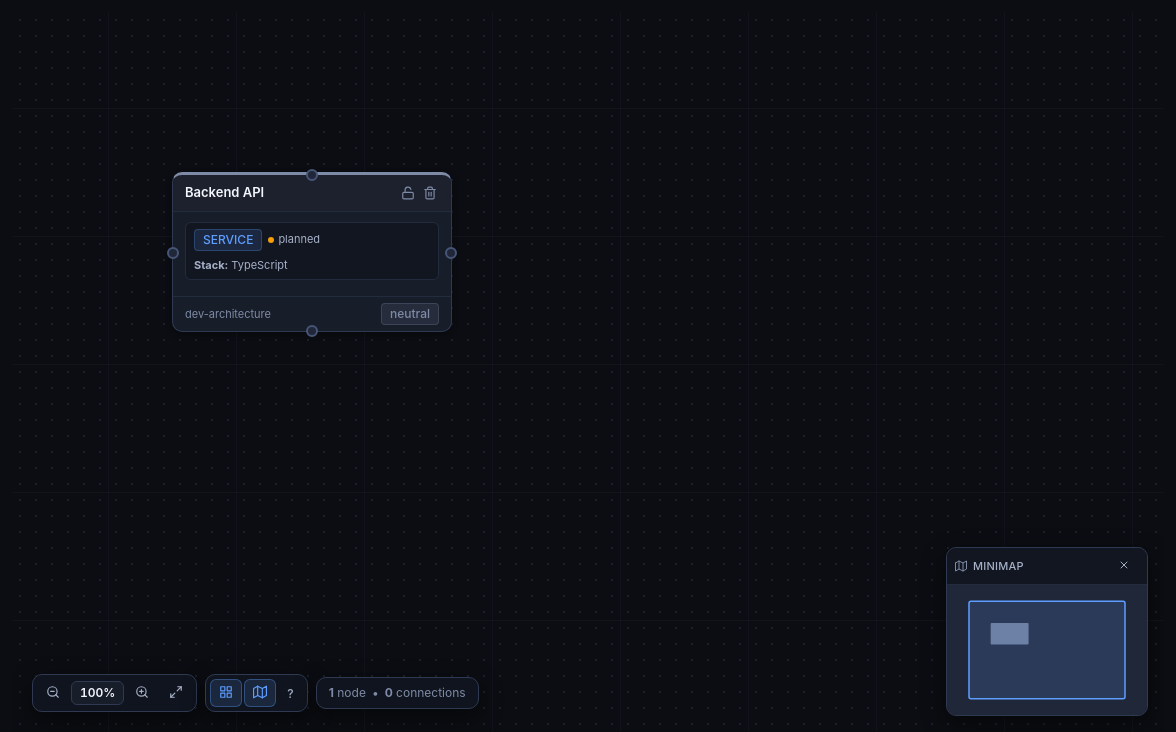
Scenario: Canvas Interaction Pipeline Integration Suite › Priority C: Right-Click Custom Context Menu › right-clicking a node selects it and opens custom context menu at pointer location
Right-click the button "Backend API".
right_click(312, 252)  # box x1=172 y1=172 x2=452 y2=332
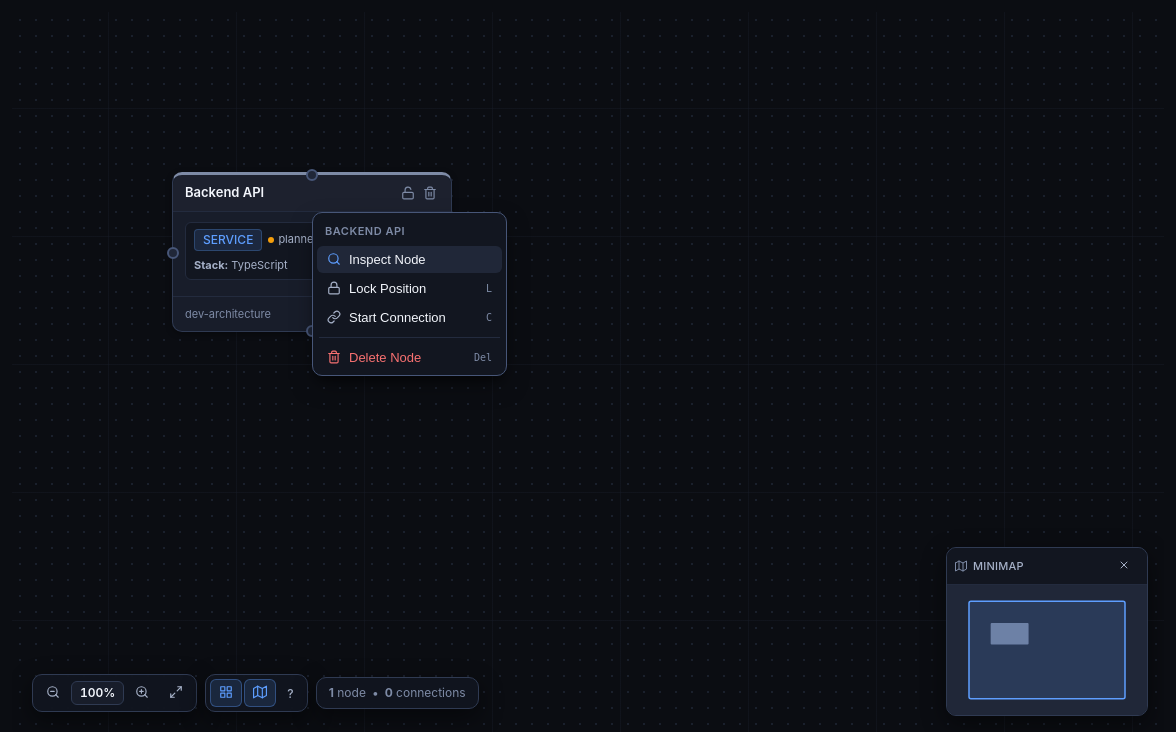
Expected: the menu named "Node options for Backend API" is shown, x1=312 y1=212 x2=507 y2=376
Expected: the menu item "Inspect Node" is shown, x1=317 y1=246 x2=502 y2=272
Expected: the menu item "Lock Position L" is shown, x1=317 y1=274 x2=502 y2=302
